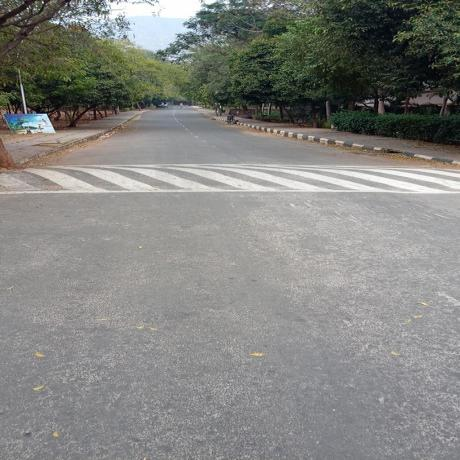Speed Bump: (0, 164, 459, 194)
